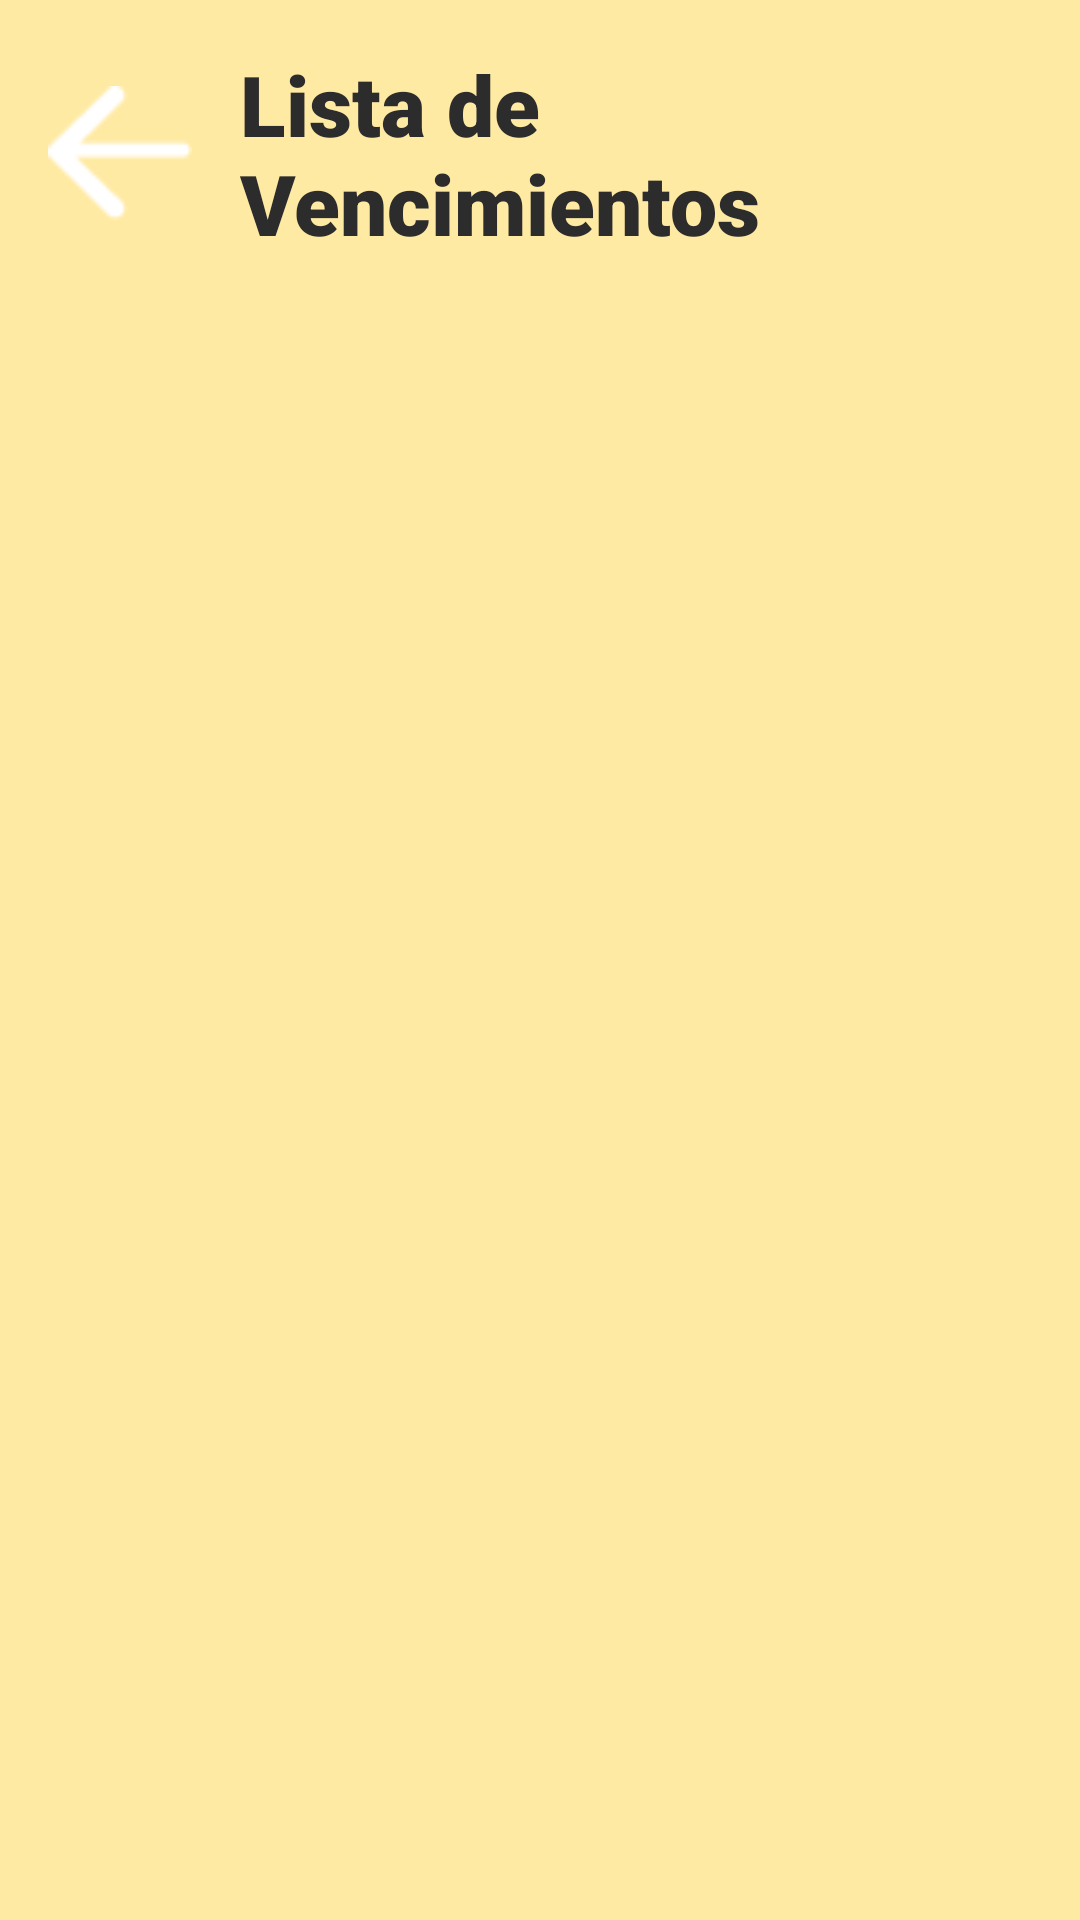

Where icons sit on this 1080 x 1920 app screen, as (x1, y1, x2, y2):
atras: (48, 86, 192, 218)
